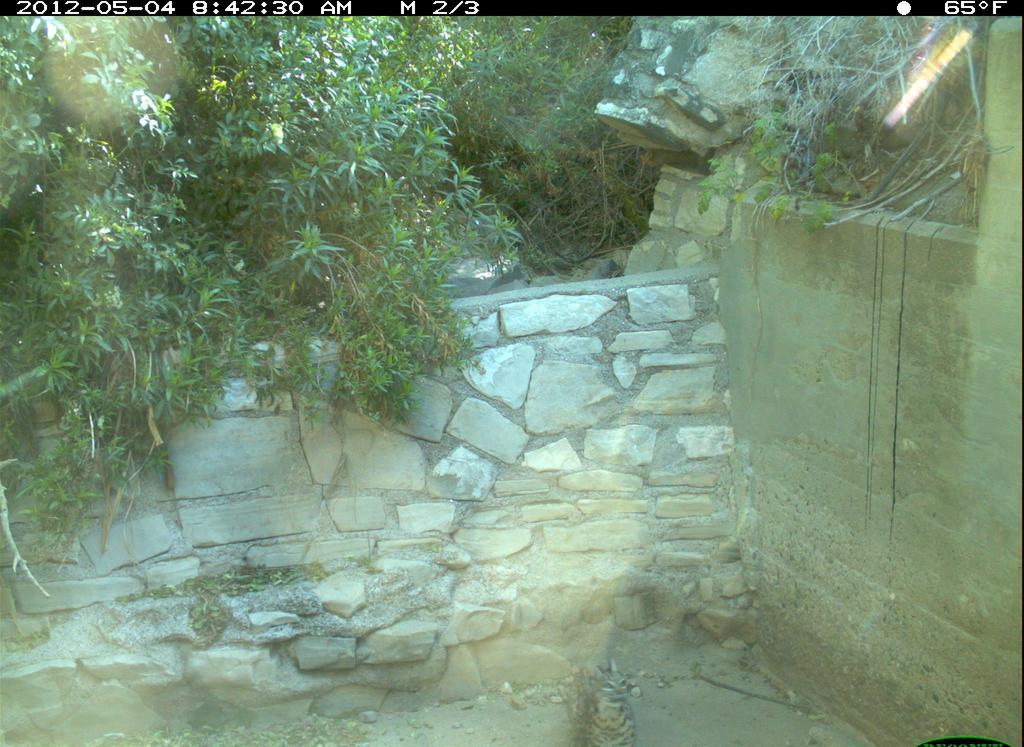bobcat: (559, 658, 643, 747)
